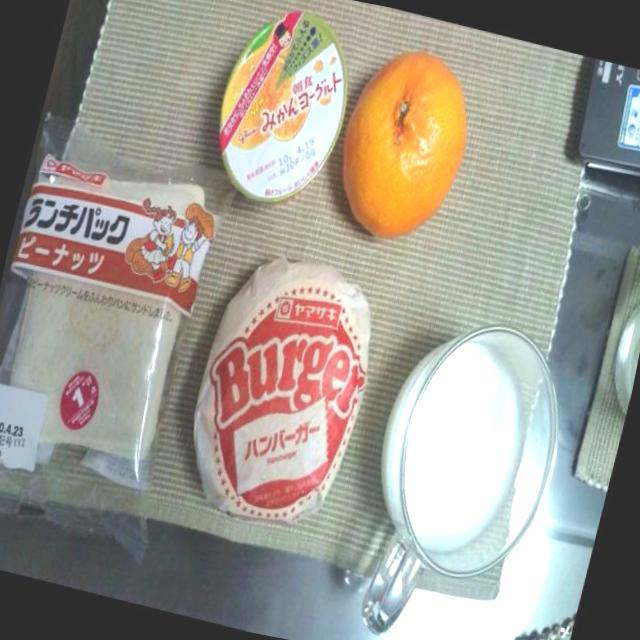Orange: (314, 26, 496, 270)
